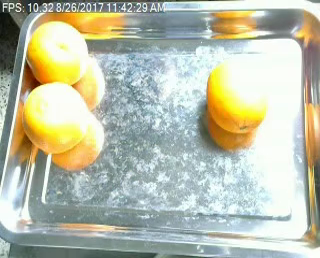Orange: (206, 60, 265, 132)
